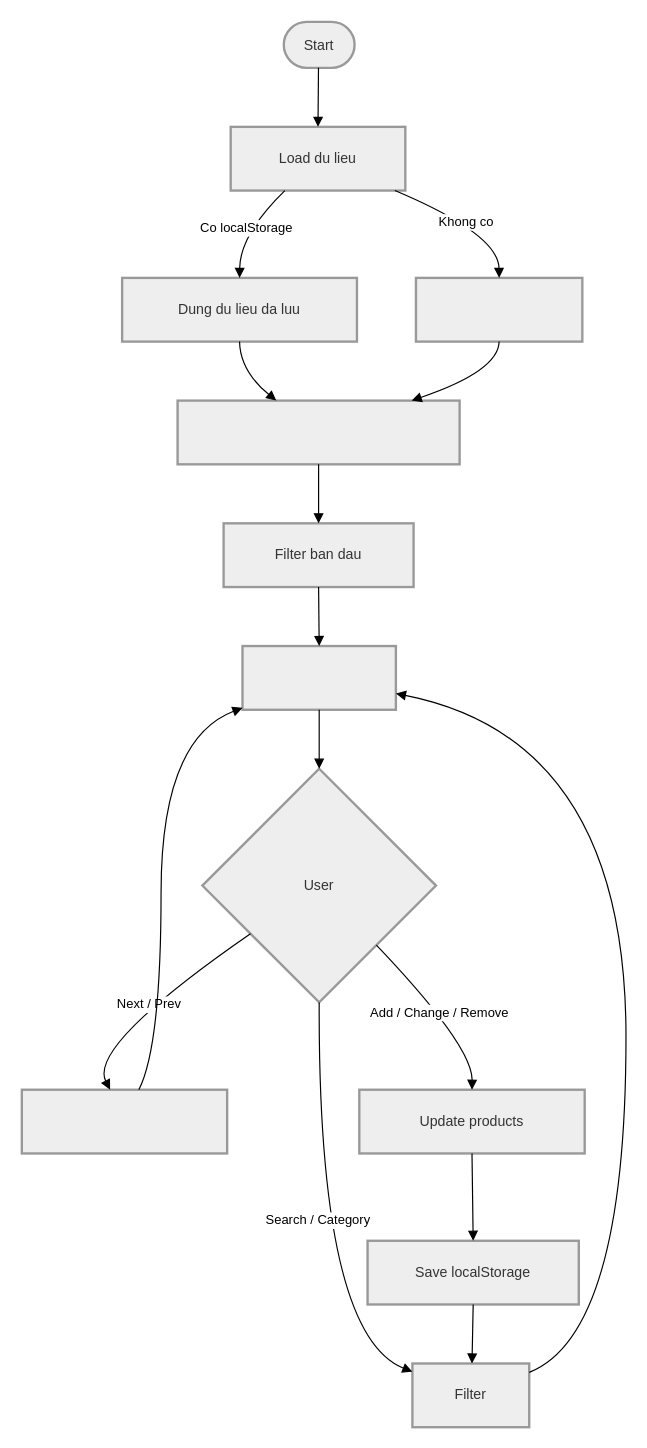
The diagram is 647 pixels wide and 1448 high, and some of its shapes have lost their labels. Each missing label, with the centre of its shape:
"Doi currentPage" belongs at point (124, 1121).
"Dung DEMO" belongs at point (498, 309).
"Khoi tao ProductManager" belongs at point (318, 432).
"Render UI" belongs at point (318, 677).
